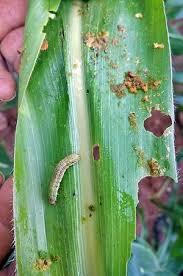fallarmy_worm: (36, 150, 85, 212)
